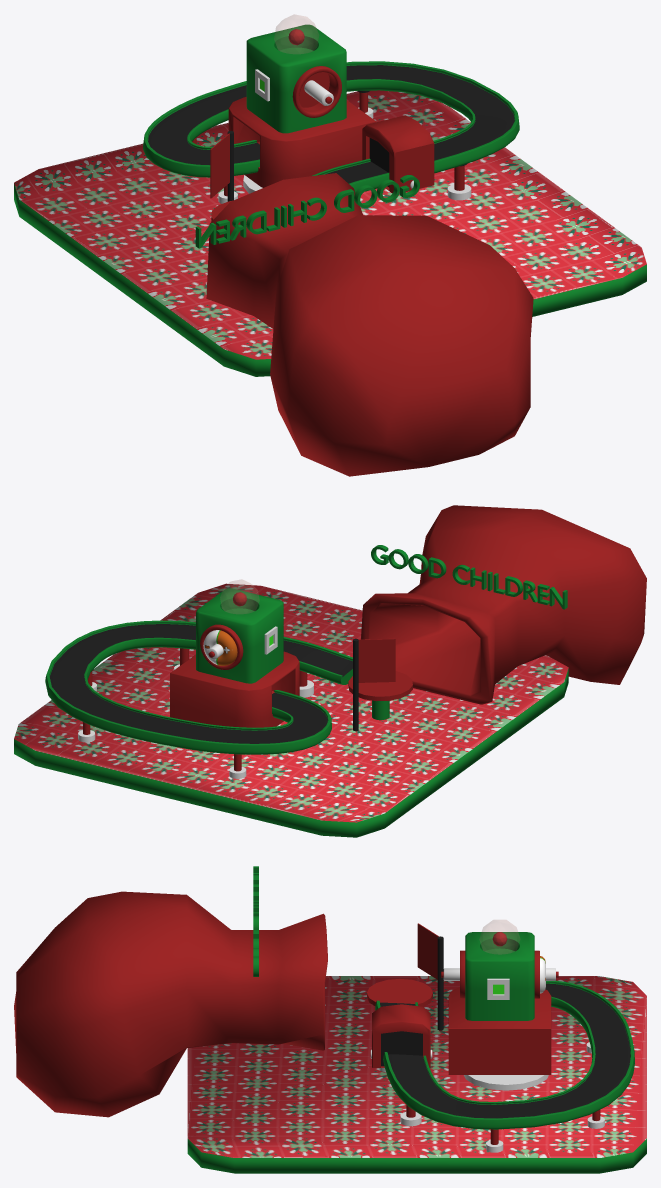
3 renders of one model, top to bottom at view 1: azimuth 30°, elevation 25°; view 2: azimuth 150°, elevation 25°; view 3: azimuth 270°, elevation 25°, orthographic. The views are drawn at different scales.
Parts seen in each view (by area): view 1: EndBucket, Floor, Band, LetterGenerator, GiftGenerator, ColorGiver, DestinationText, EnergySphere, GiftHitter, BandSupport; view 2: Floor, EndBucket, Band, GiftGenerator, LetterGenerator, DestinationText, GiftHitter, HitSupport, BandSupport, EnergySphere, Battery; view 3: Floor, EndBucket, Band, GiftGenerator, LetterGenerator, ColorGiver, BandSupport, GiftHitter, HitSupport, EnergySphere, DestinationText, Signaler.
Part boxes in pixels (<box>): EndBucket: <box>206,173,533,476</box>; Floor: <box>14,90,646,376</box>; Band: <box>143,61,519,192</box>; LetterGenerator: <box>246,24,346,133</box>; GiftGenerator: <box>228,97,376,187</box>; ColorGiver: <box>362,115,434,193</box>; DestinationText: <box>195,175,419,248</box>; EnergySphere: <box>274,14,318,53</box>; GiftHitter: <box>210,131,233,201</box>; BandSupport: <box>192,90,471,203</box>; Floor: <box>14,583,568,837</box>; EndBucket: <box>360,505,646,704</box>; Band: <box>45,620,352,754</box>; GiftGenerator: <box>170,651,299,727</box>; LetterGenerator: <box>196,588,283,683</box>; DestinationText: <box>371,545,567,609</box>; GiftHitter: <box>353,638,395,731</box>; HitSupport: <box>348,671,412,720</box>; BandSupport: <box>78,648,313,778</box>; EnergySphere: <box>220,579,259,613</box>; Battery: <box>203,630,237,665</box>; Floor: <box>187,976,646,1173</box>; EndBucket: <box>14,891,327,1117</box>; Band: <box>375,980,634,1129</box>; GiftGenerator: <box>448,987,551,1074</box>; LetterGenerator: <box>441,932,558,1020</box>; ColorGiver: <box>372,1004,430,1067</box>; BandSupport: <box>379,1042,604,1152</box>; GiftHitter: <box>417,923,443,1030</box>; HitSupport: <box>367,979,432,1006</box>; EnergySphere: <box>479,920,520,954</box>; DestinationText: <box>253,866,258,976</box>; Signaler: <box>487,978,509,999</box>.
Size of the model in its own units: 8.77 by 4.4 by 12.3.
Materials: 8 (2 with a texture image).
